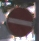No entry: (5, 6, 33, 36)
